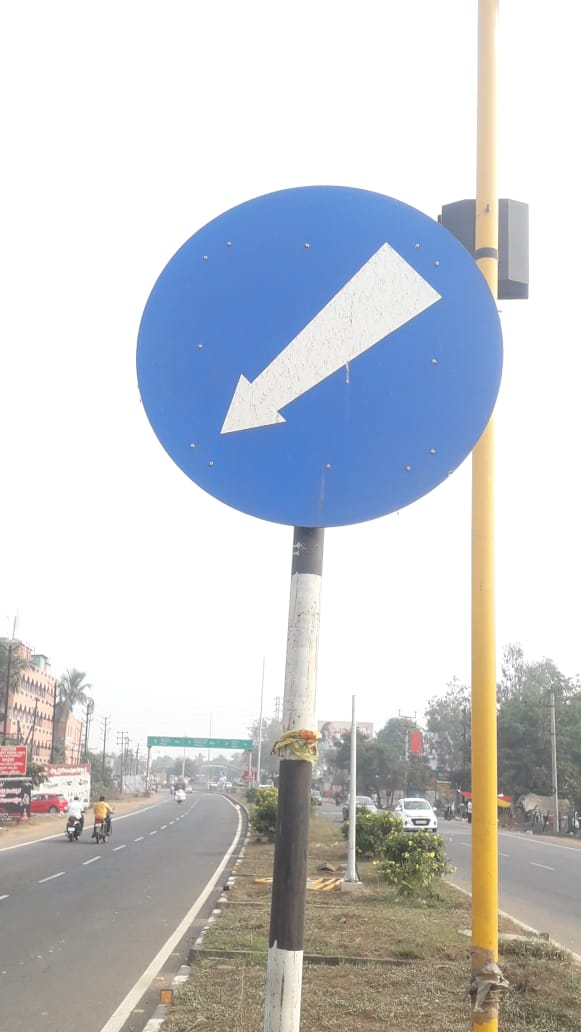go left: (121, 173, 510, 526)
